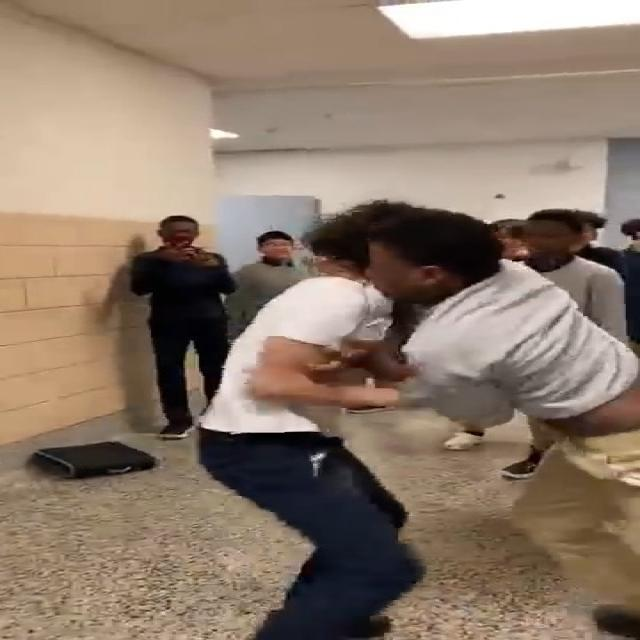fight: (178, 193, 640, 640)
